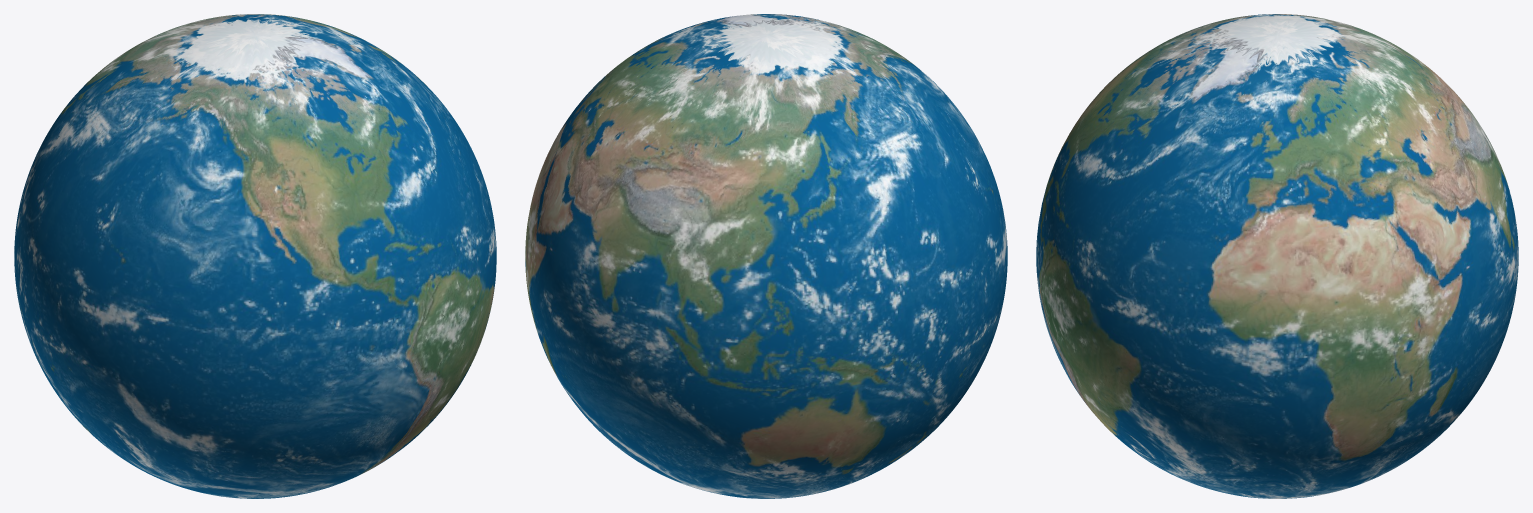
The model's file is earth.glb.
3 renders of one model, left to right at view 1: azimuth 30°, elevation 25°; view 2: azimuth 150°, elevation 25°; view 3: azimuth 270°, elevation 25°, orthographic.
Visible parts, largest first — view 1: Object_4; view 2: Object_4; view 3: Object_4.
Part boxes in pixels (left/top/right/bottom): Object_4: left=14, top=14, right=496, bottom=498; Object_4: left=525, top=14, right=1007, bottom=498; Object_4: left=1036, top=14, right=1518, bottom=498.
Size of the model in its own units: 2.23 by 2.25 by 2.23.
Materials: 1 (1 with a texture image).
